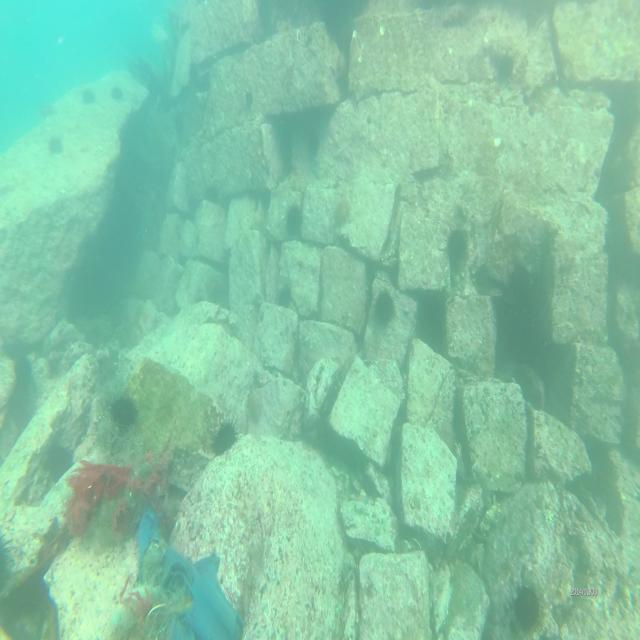echinus: (106, 390, 140, 432), (512, 583, 540, 633), (209, 417, 238, 458), (445, 225, 470, 269), (282, 200, 306, 244), (373, 286, 397, 327), (331, 197, 355, 231), (496, 48, 516, 88), (275, 278, 294, 315), (13, 354, 33, 388), (46, 134, 64, 157), (81, 86, 97, 109), (109, 82, 124, 104)
